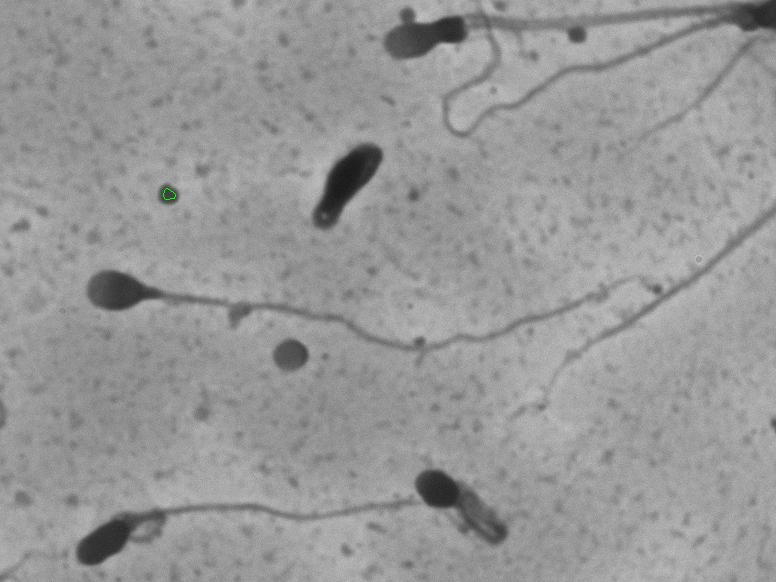Abnormal: (59, 466, 400, 574), (272, 120, 405, 254), (409, 446, 514, 551)
Normal: (70, 256, 660, 370)
